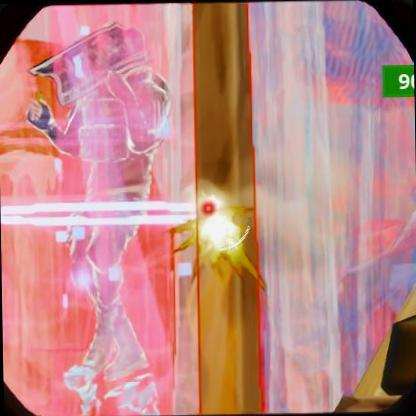person: (34, 9, 182, 358)
